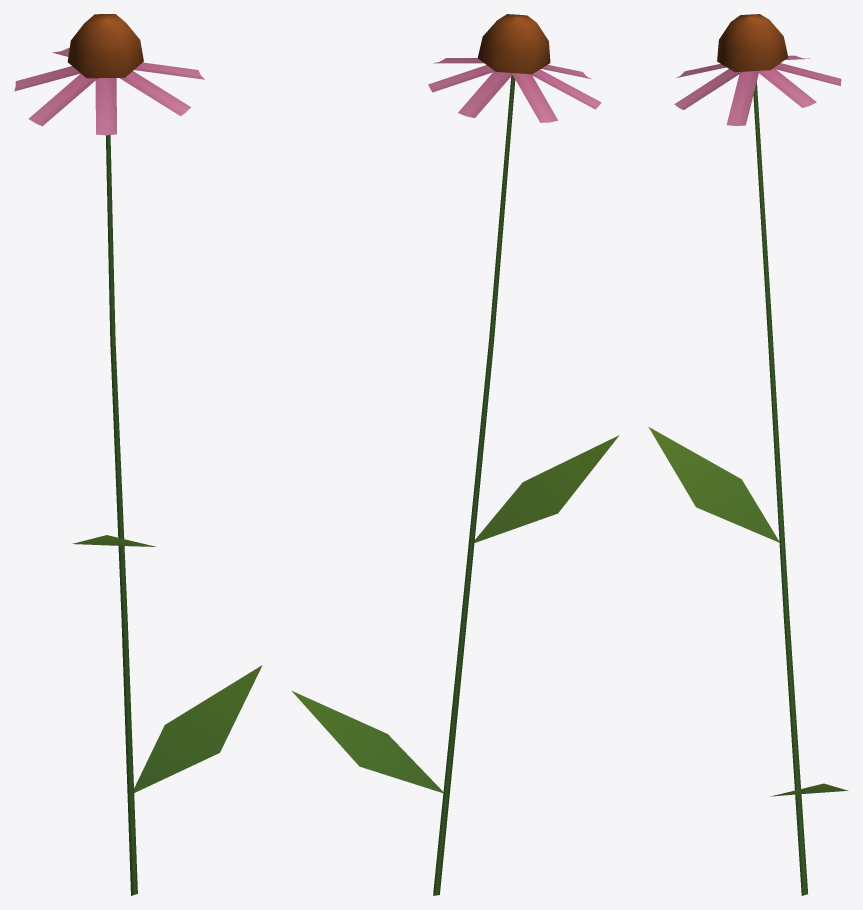
Rendered from flower-coneflower-a.lod1.glb.
3 views of the same model, side by side, from view 1: azimuth 30°, elevation 25°; view 2: azimuth 150°, elevation 25°; view 3: azimuth 270°, elevation 25° (orthographic). The views are drawn at different scales.
Parts seen in each view (by area): view 1: flower-coneflower-a.lod1; view 2: flower-coneflower-a.lod1; view 3: flower-coneflower-a.lod1.
Boxes of the visible parts, left/top/right/bottom form: flower-coneflower-a.lod1: left=14, top=14, right=262, bottom=895; flower-coneflower-a.lod1: left=291, top=14, right=619, bottom=895; flower-coneflower-a.lod1: left=648, top=14, right=848, bottom=895.
Bounding box in the file's own units: 0.193 × 0.6078 × 0.1296.
